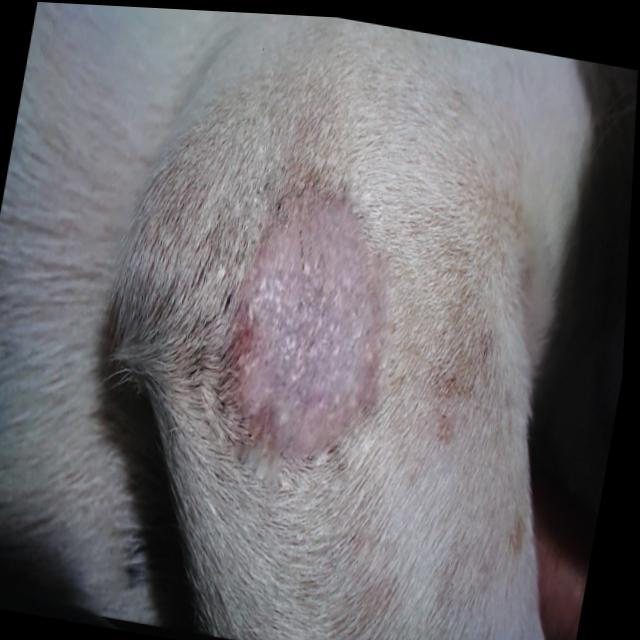ringworm: (190, 143, 428, 495)
